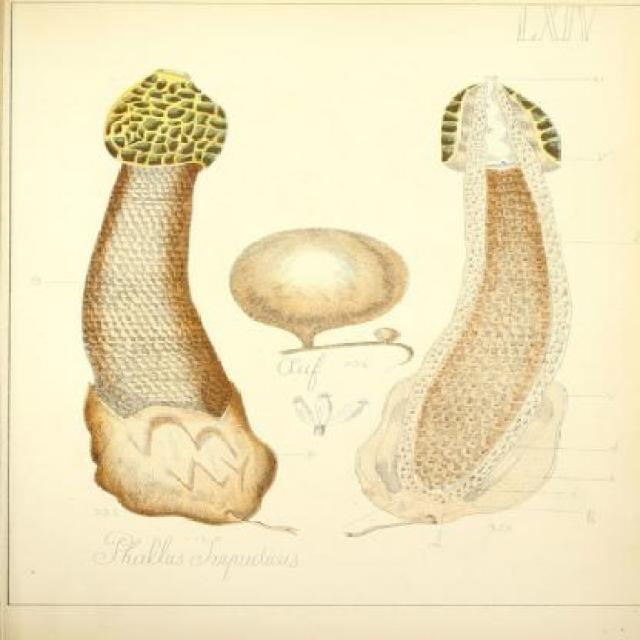Mushroom: (50, 65, 312, 570), (352, 79, 576, 536), (228, 224, 409, 344), (374, 326, 398, 342)
